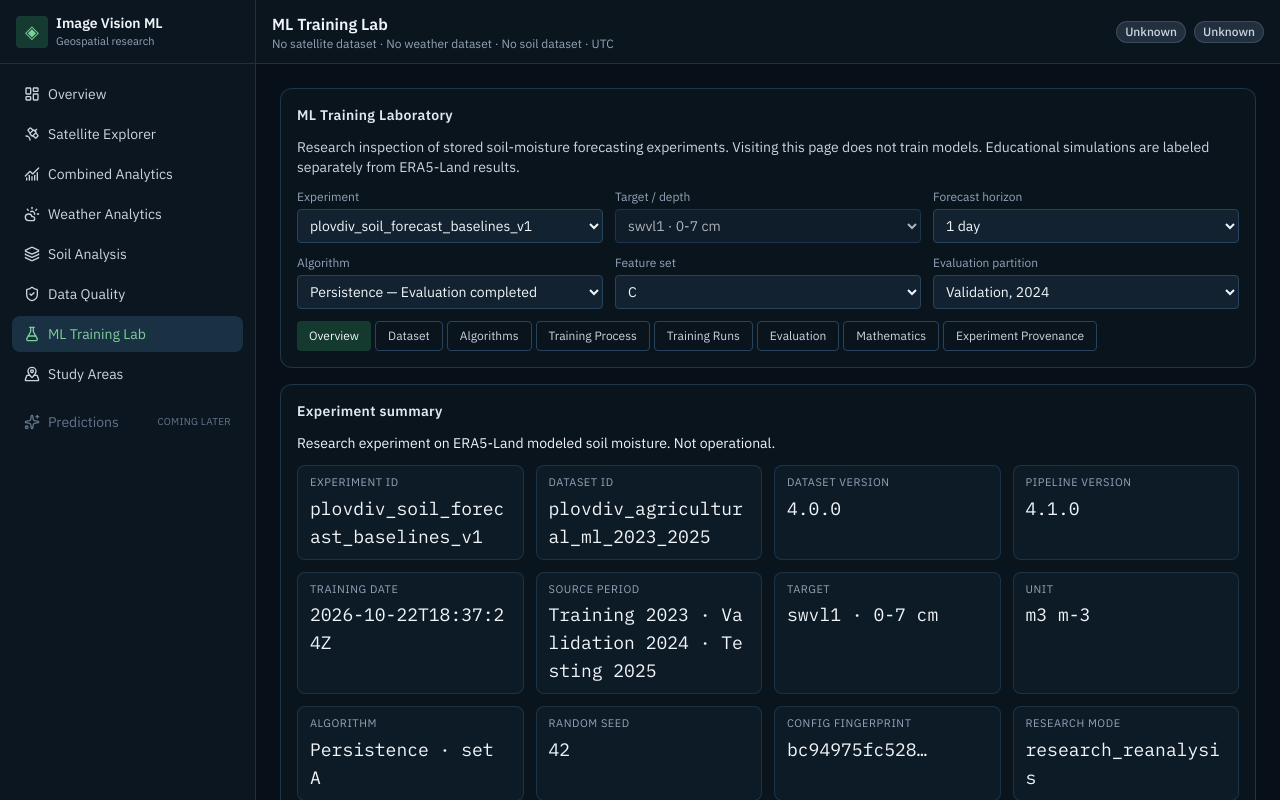
Test: ML Training Laboratory › shows an empty telemetry state when no runs exist
Expected: the heading "Experiment summary" is shown, [297,401,443,421]
Click the tab "Training Runs". click: (703, 336)
box: [654,321,753,351]
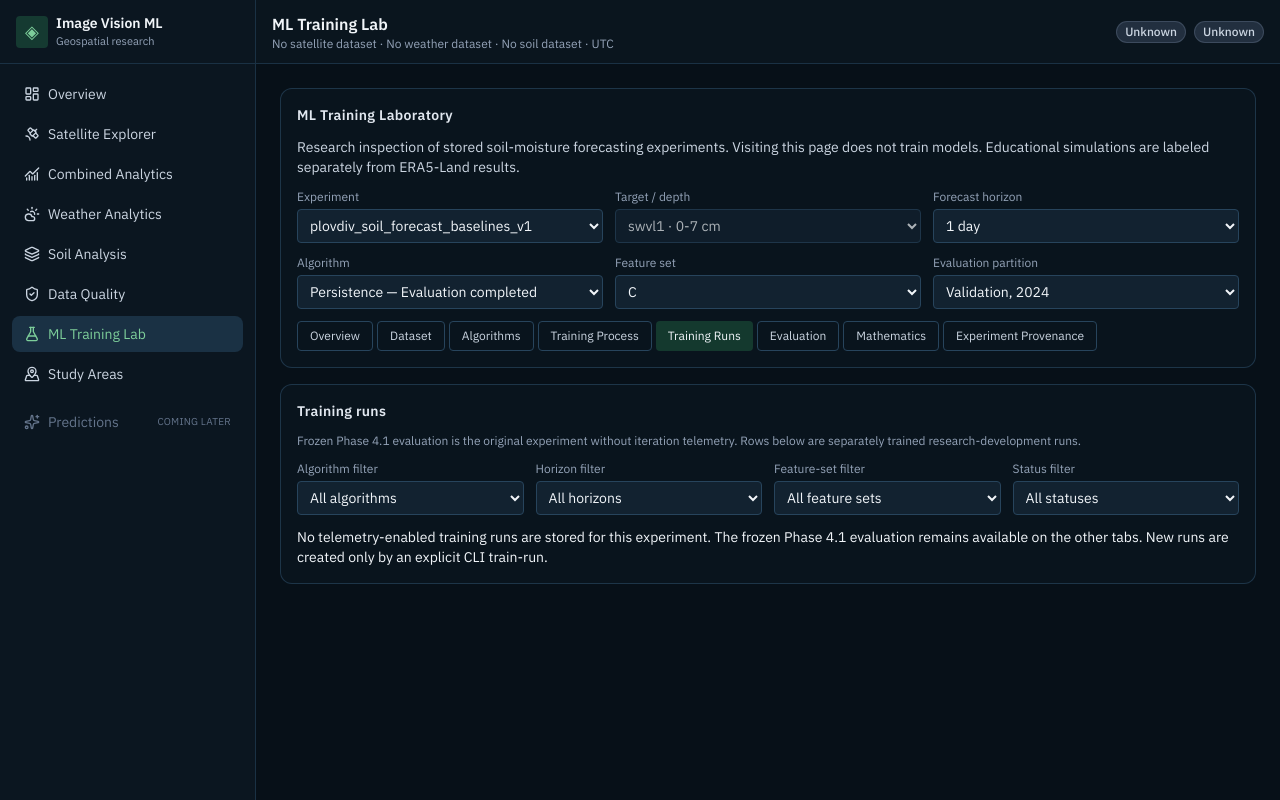
Now the text with test id "training-runs-empty" shows "No telemetry-enabled training runs", box [297,528,1229,566]
